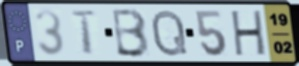3: (34, 7, 65, 60)
5: (193, 8, 229, 59)
B: (111, 7, 152, 60)
H: (230, 9, 268, 59)
Q: (150, 8, 190, 59)
T: (69, 9, 100, 57)
